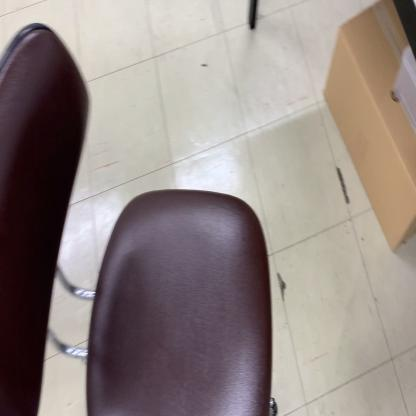chair: (0, 20, 278, 415)
